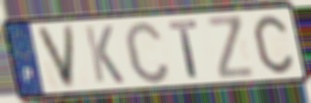C: (122, 18, 173, 86), (251, 13, 296, 76)
K: (82, 24, 127, 86)
T: (166, 18, 201, 80)
V: (33, 23, 77, 91)
Z: (204, 13, 257, 81)
